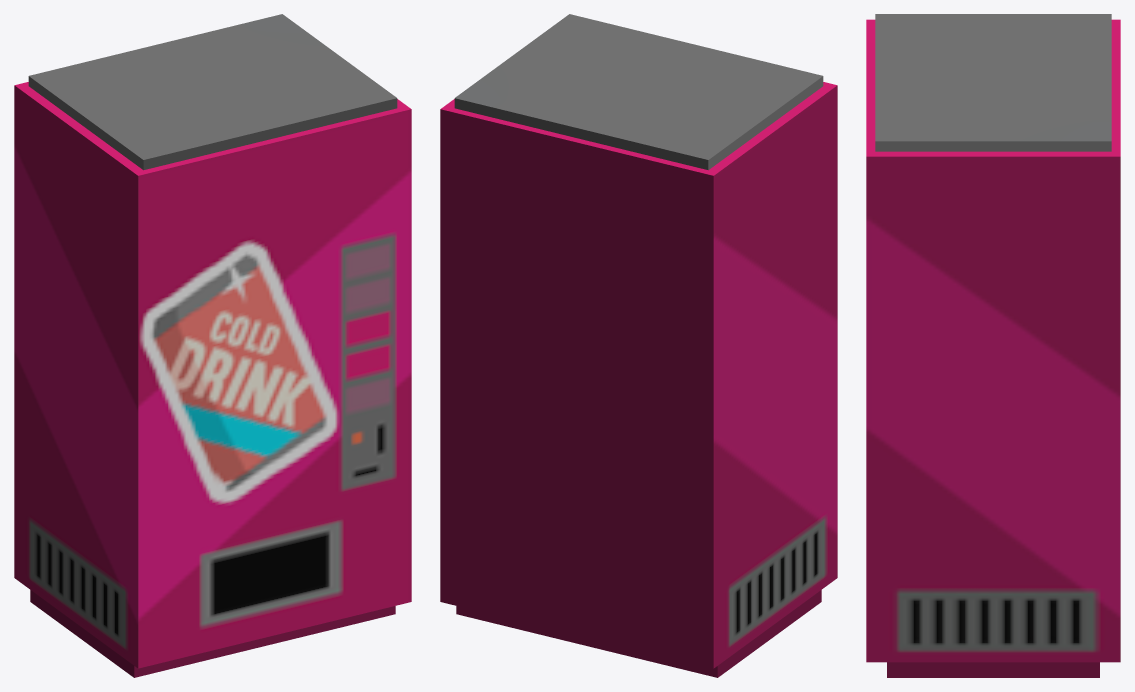
The model's file is SM_VendingMachine_Large_03.fbx.
3 views of the same model, side by side, from view 1: azimuth 30°, elevation 25°; view 2: azimuth 150°, elevation 25°; view 3: azimuth 270°, elevation 25° (orthographic). The views are drawn at different scales.
Visible parts, largest first — view 1: SM_VendingMachine_Large_03; view 2: SM_VendingMachine_Large_03; view 3: SM_VendingMachine_Large_03.
Boxes of the visible parts, x1=… form: SM_VendingMachine_Large_03: x1=14, y1=14, x2=411, y2=677; SM_VendingMachine_Large_03: x1=440, y1=14, x2=837, y2=677; SM_VendingMachine_Large_03: x1=866, y1=14, x2=1120, y2=677.
Size of the model in its own units: 1.84 by 3.35 by 1.44.
